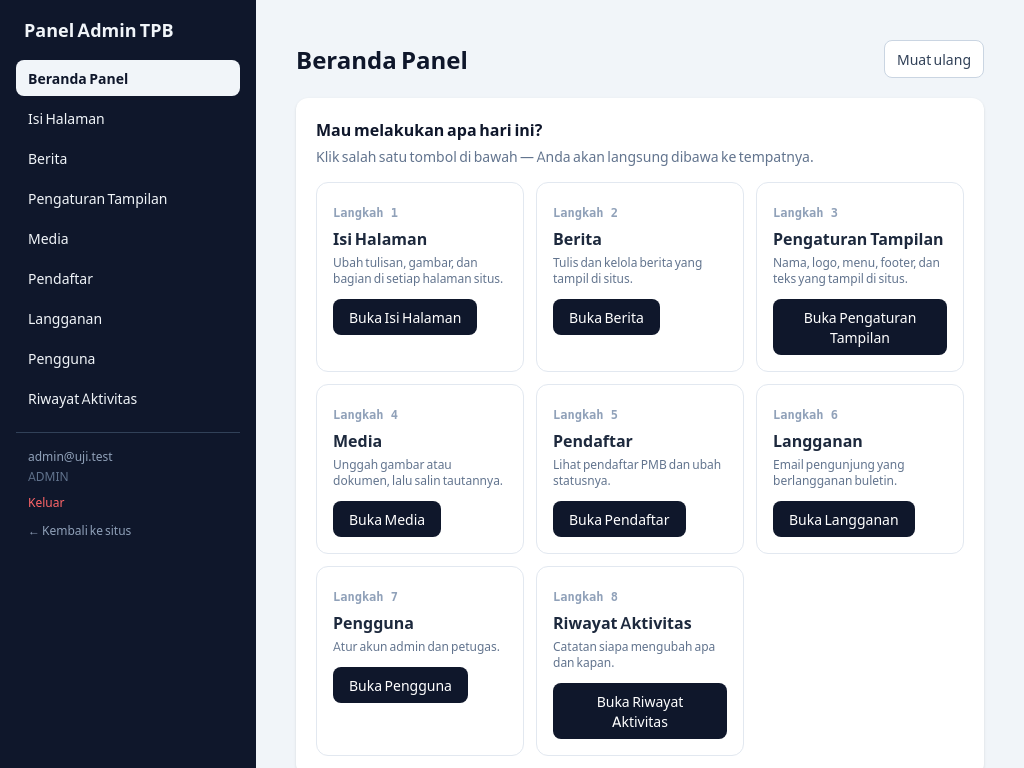
Scenario: AdminPage — panduan cepat › menampilkan panduan dan membawa ke bagian yang dipilih
Expected: the text "admin@uji.test" is shown, top-left (28, 449), bottom-right (113, 464)
Click the button "Buka Isi Halaman" at (405, 317), box top-left (333, 299), bottom-right (477, 335)
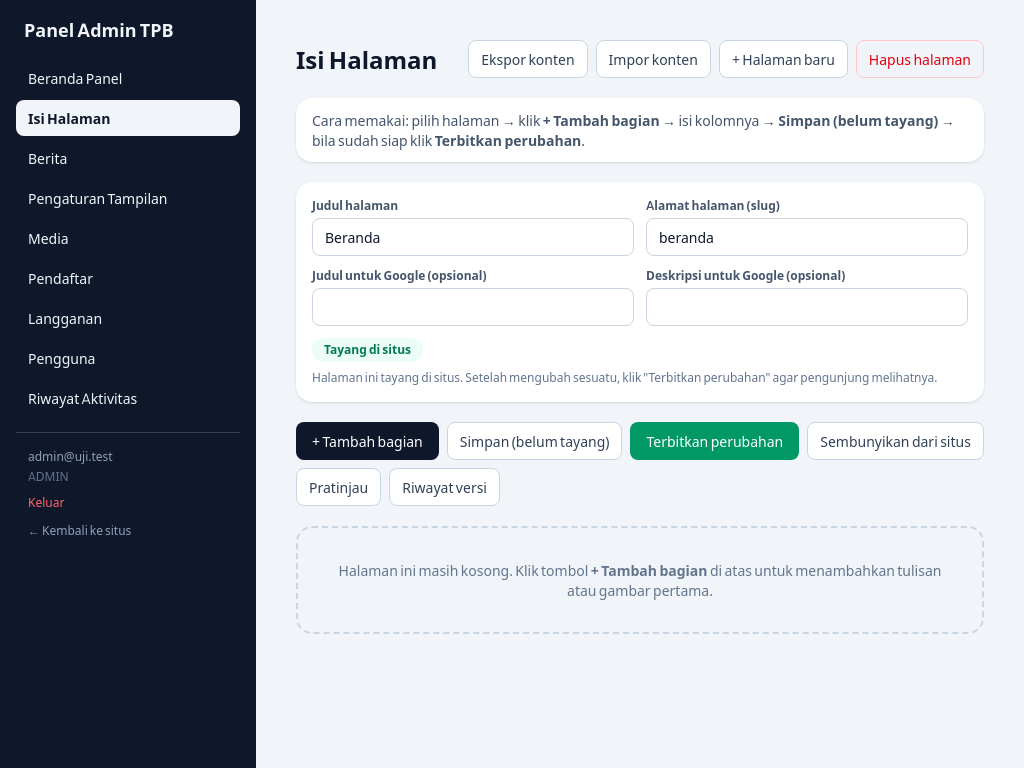
Expected: the heading "Isi Halaman" is shown, top-left (296, 43), bottom-right (437, 75)
